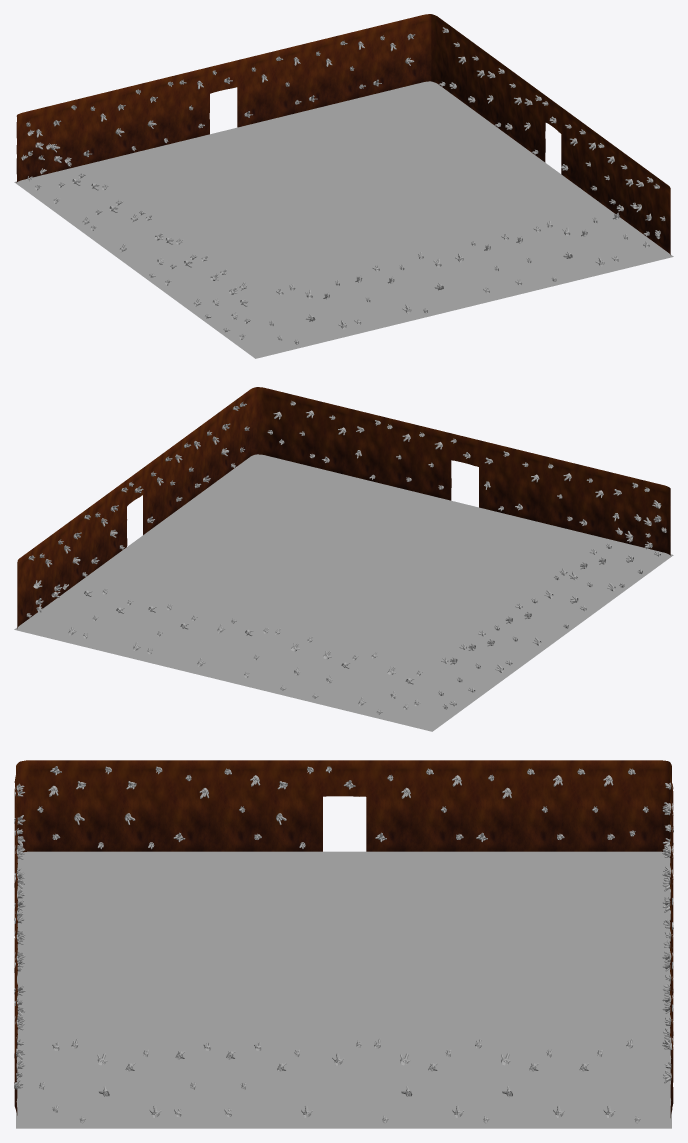
The model's file is room_1.fbx.
3 renders of one model, top to bottom at view 1: azimuth 30°, elevation 25°; view 2: azimuth 150°, elevation 25°; view 3: azimuth 270°, elevation 25°, orthographic. The views are drawn at different scales.
Parts seen in each view (by area): view 1: wall_piece_59; view 2: wall_piece_59; view 3: wall_piece_59.
Boxes of the visible parts, x1,y1,x2,y2 form: wall_piece_59: (14, 14, 673, 358); wall_piece_59: (14, 387, 673, 731); wall_piece_59: (14, 760, 673, 1128).
Bounding box in the file's own units: 1308 × 200 × 1308.
